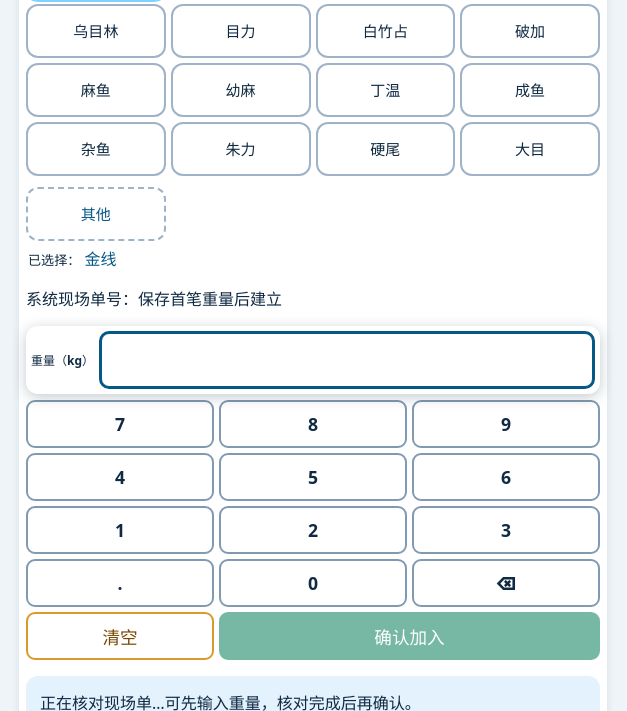
iPhone 现场称重单页 › 鱼头纸单号可以留空；有船号、鱼名和合法重量时仍会保存，并且不伪造正式单号快照
(page scrolled)
Type "80.5" into the field labelled "重量（kg）". click: coordinates (347, 360)
box: [99,331,595,389]
(page scrolled)
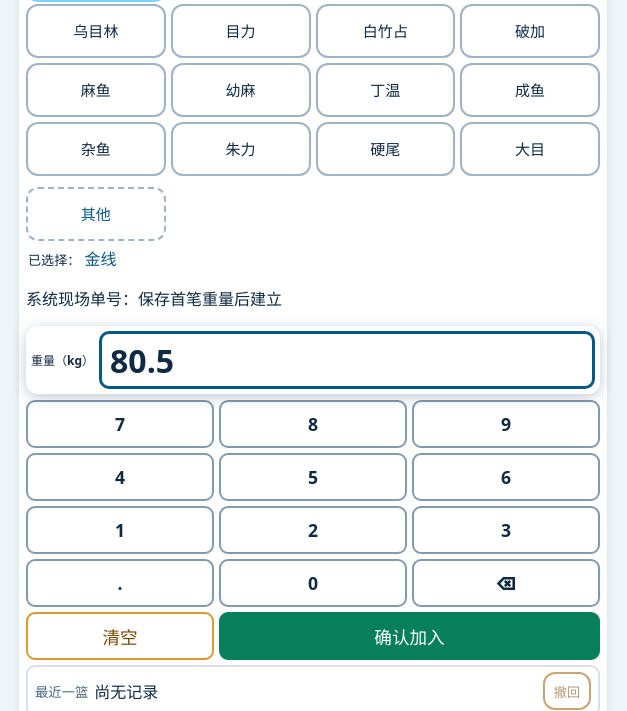
Expected: the button "确认加入" is enabled
Click the button "确认加入". click: coordinates (410, 636)
box: [219,612,600,660]
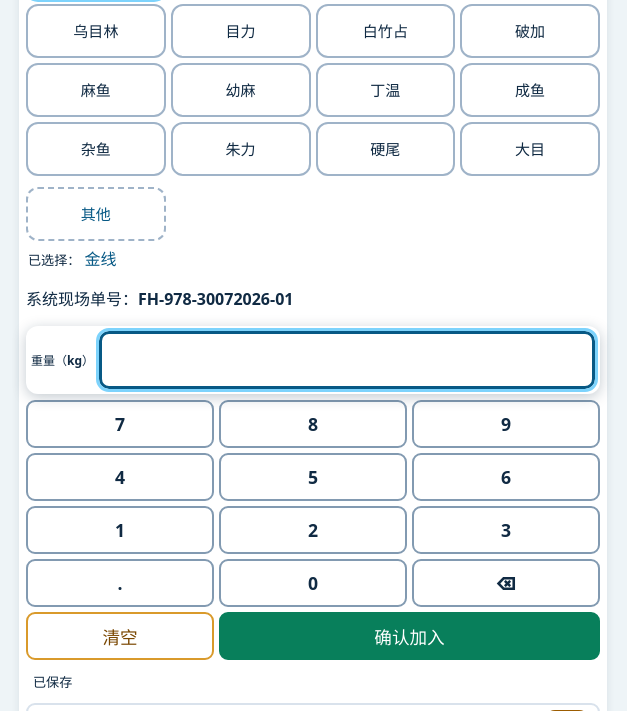
Expected: the text "已保存" is shown, [33,673,72,691]
